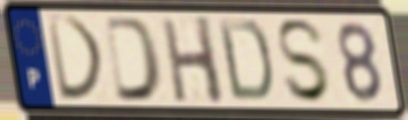8: (335, 19, 385, 105)
D: (44, 13, 108, 104), (102, 14, 165, 104), (215, 16, 274, 105)
H: (158, 14, 227, 107)
S: (274, 17, 334, 106)
